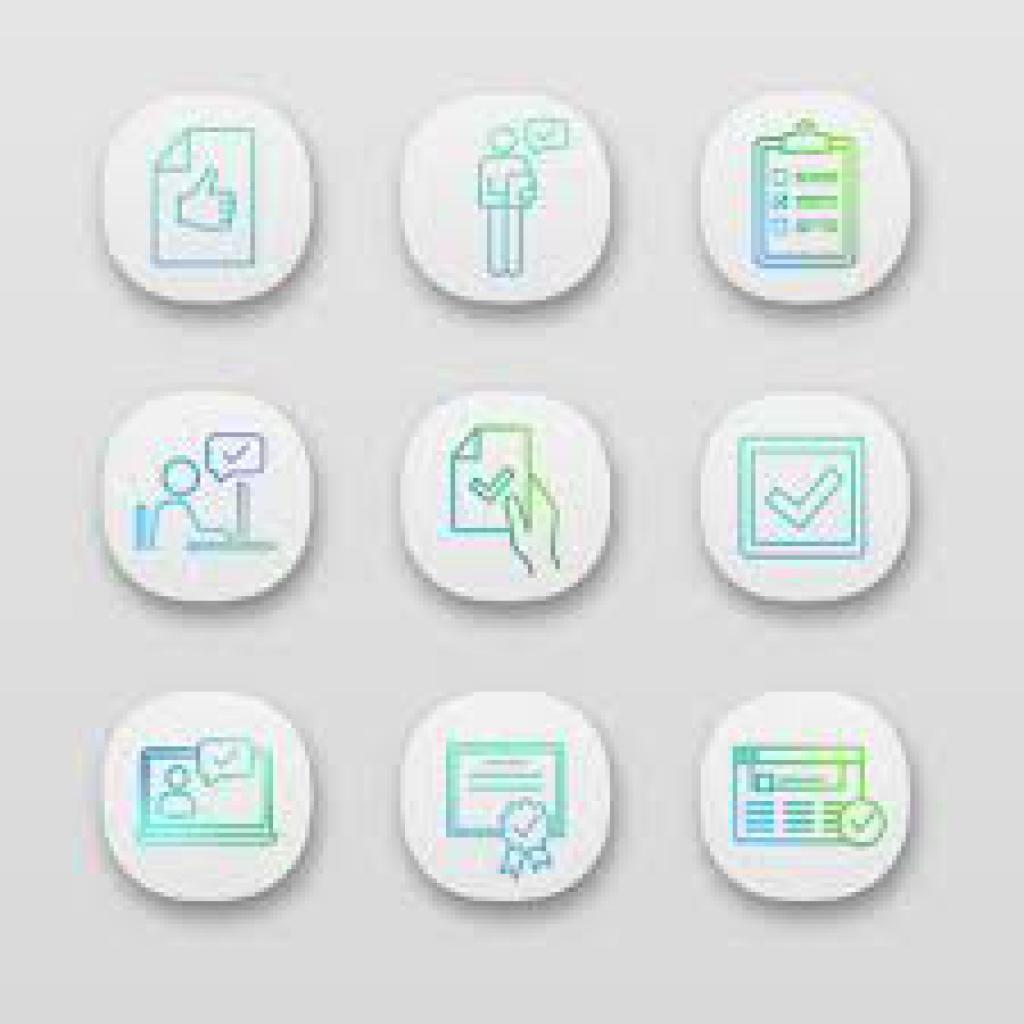checkbox: (736, 435, 871, 560)
icon: (433, 731, 575, 875), (130, 430, 285, 558), (143, 114, 264, 275), (741, 119, 867, 273), (443, 421, 566, 578), (721, 739, 890, 853), (131, 734, 283, 859), (461, 117, 575, 280)
